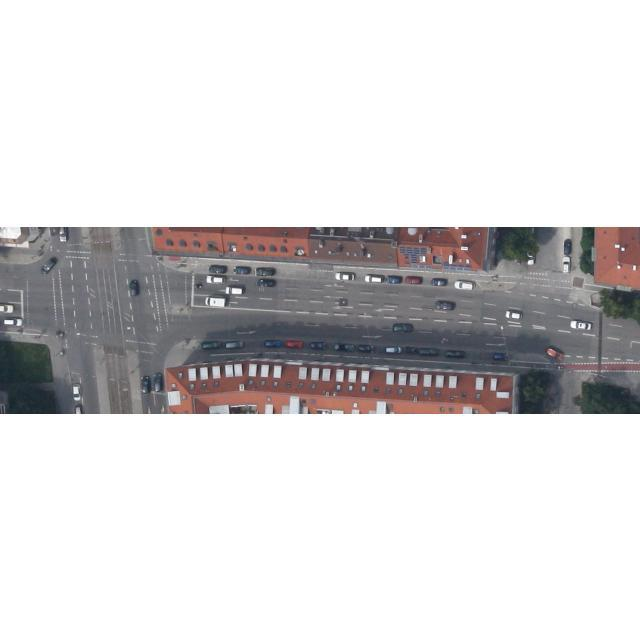vehicle: (40, 258, 54, 274), (570, 320, 592, 330), (204, 296, 226, 306), (546, 348, 564, 360), (393, 322, 413, 332), (454, 280, 474, 290), (435, 300, 455, 310), (141, 376, 151, 394), (334, 272, 354, 280), (202, 341, 222, 349), (207, 275, 226, 283), (419, 347, 438, 355), (4, 318, 22, 326), (154, 373, 162, 391), (256, 267, 274, 275), (209, 264, 227, 272), (257, 278, 275, 286), (365, 274, 383, 282), (226, 340, 244, 348), (446, 349, 464, 357), (334, 344, 354, 351), (225, 286, 242, 294), (431, 277, 447, 285), (386, 275, 402, 283), (562, 256, 570, 272), (527, 247, 535, 263), (505, 310, 521, 318), (287, 340, 303, 348), (358, 344, 374, 352), (130, 280, 138, 294), (265, 339, 281, 346), (312, 341, 326, 349), (494, 352, 508, 360), (74, 384, 80, 400), (233, 266, 249, 272), (406, 276, 422, 282), (386, 346, 402, 352), (564, 239, 570, 253), (406, 346, 416, 354)
